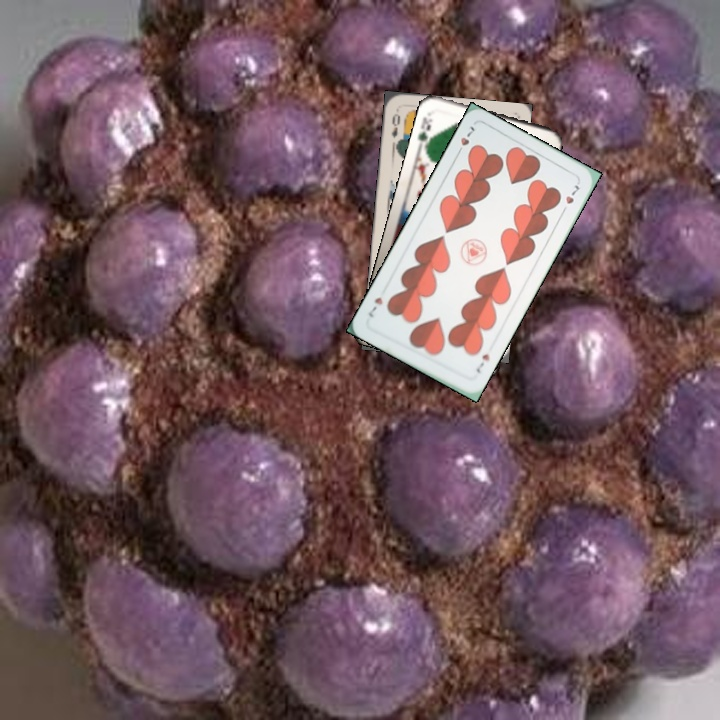EO: (387, 109, 403, 140)
GK: (414, 113, 435, 150)
H7: (452, 122, 477, 158), (472, 350, 492, 376)
